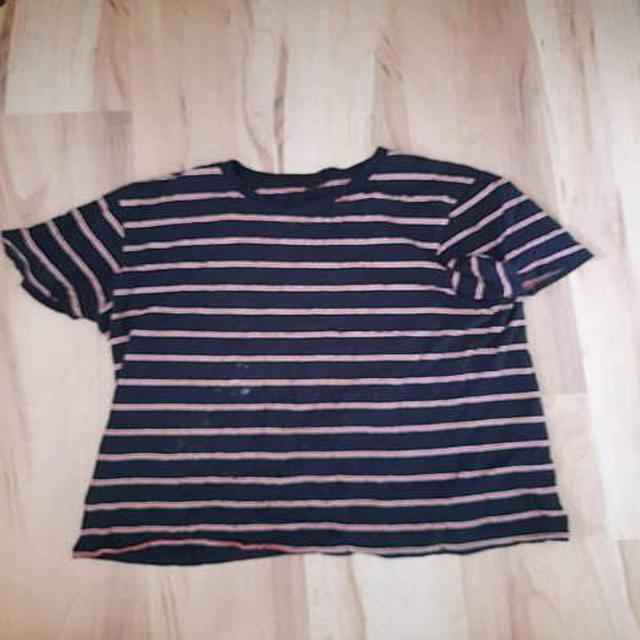T_SHIRT: (0, 136, 612, 573)
